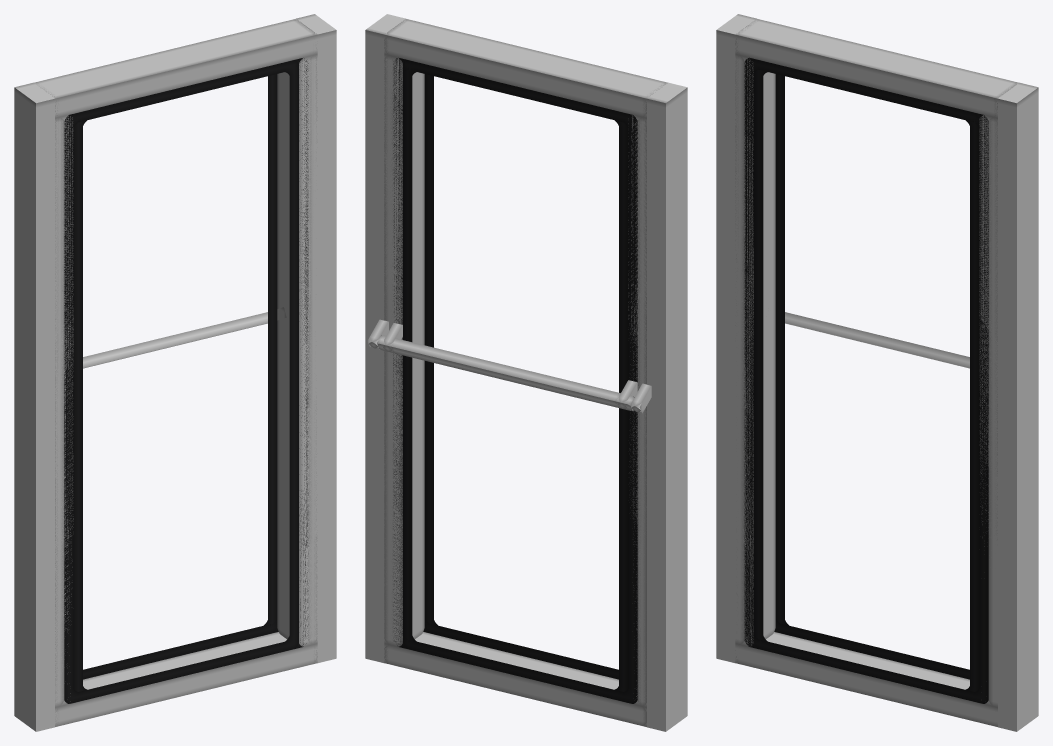
Rendered from shhighduanmen.obj.
3 renders of one model, left to right at view 1: azimuth 30°, elevation 25°; view 2: azimuth 150°, elevation 25°; view 3: azimuth 330°, elevation 25°, orthographic.
Parts seen in each view (by area): view 1: door_left, door_right, main_right, main_left; view 2: door_left, door_right, main_right, main_left; view 3: door_right, door_left, main_left, main_right.
Boxes of the visible parts, x1=… form: door_left: x1=34, y1=20, x2=317, y2=726; door_right: x1=36, y1=19, x2=317, y2=725; main_right: x1=14, y1=82, x2=54, y2=731; main_left: x1=296, y1=14, x2=336, y2=662; door_left: x1=383, y1=20, x2=667, y2=726; door_right: x1=367, y1=19, x2=665, y2=725; main_right: x1=647, y1=82, x2=687, y2=731; main_left: x1=365, y1=14, x2=405, y2=662; door_right: x1=735, y1=20, x2=1018, y2=726; door_left: x1=735, y1=19, x2=1016, y2=719; main_left: x1=998, y1=82, x2=1038, y2=731; main_right: x1=716, y1=14, x2=756, y2=662.
Bounding box in the file's own units: 1 × 2 × 0.1951.
